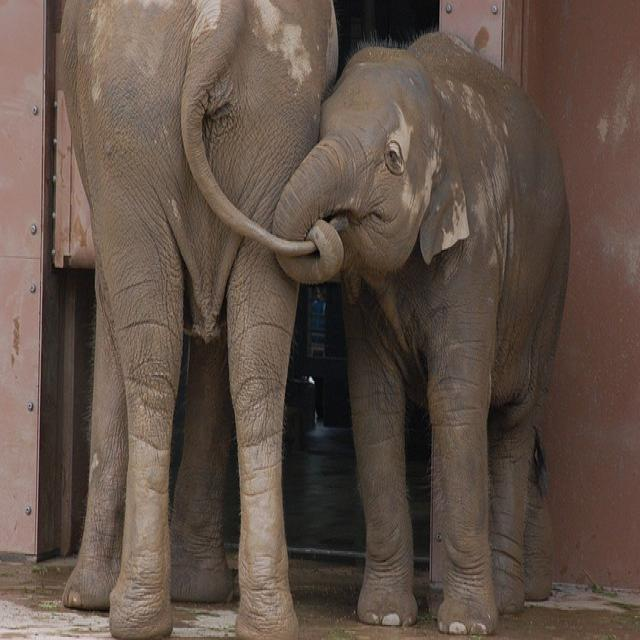elephant: (272, 34, 570, 634), (61, 2, 338, 638)
